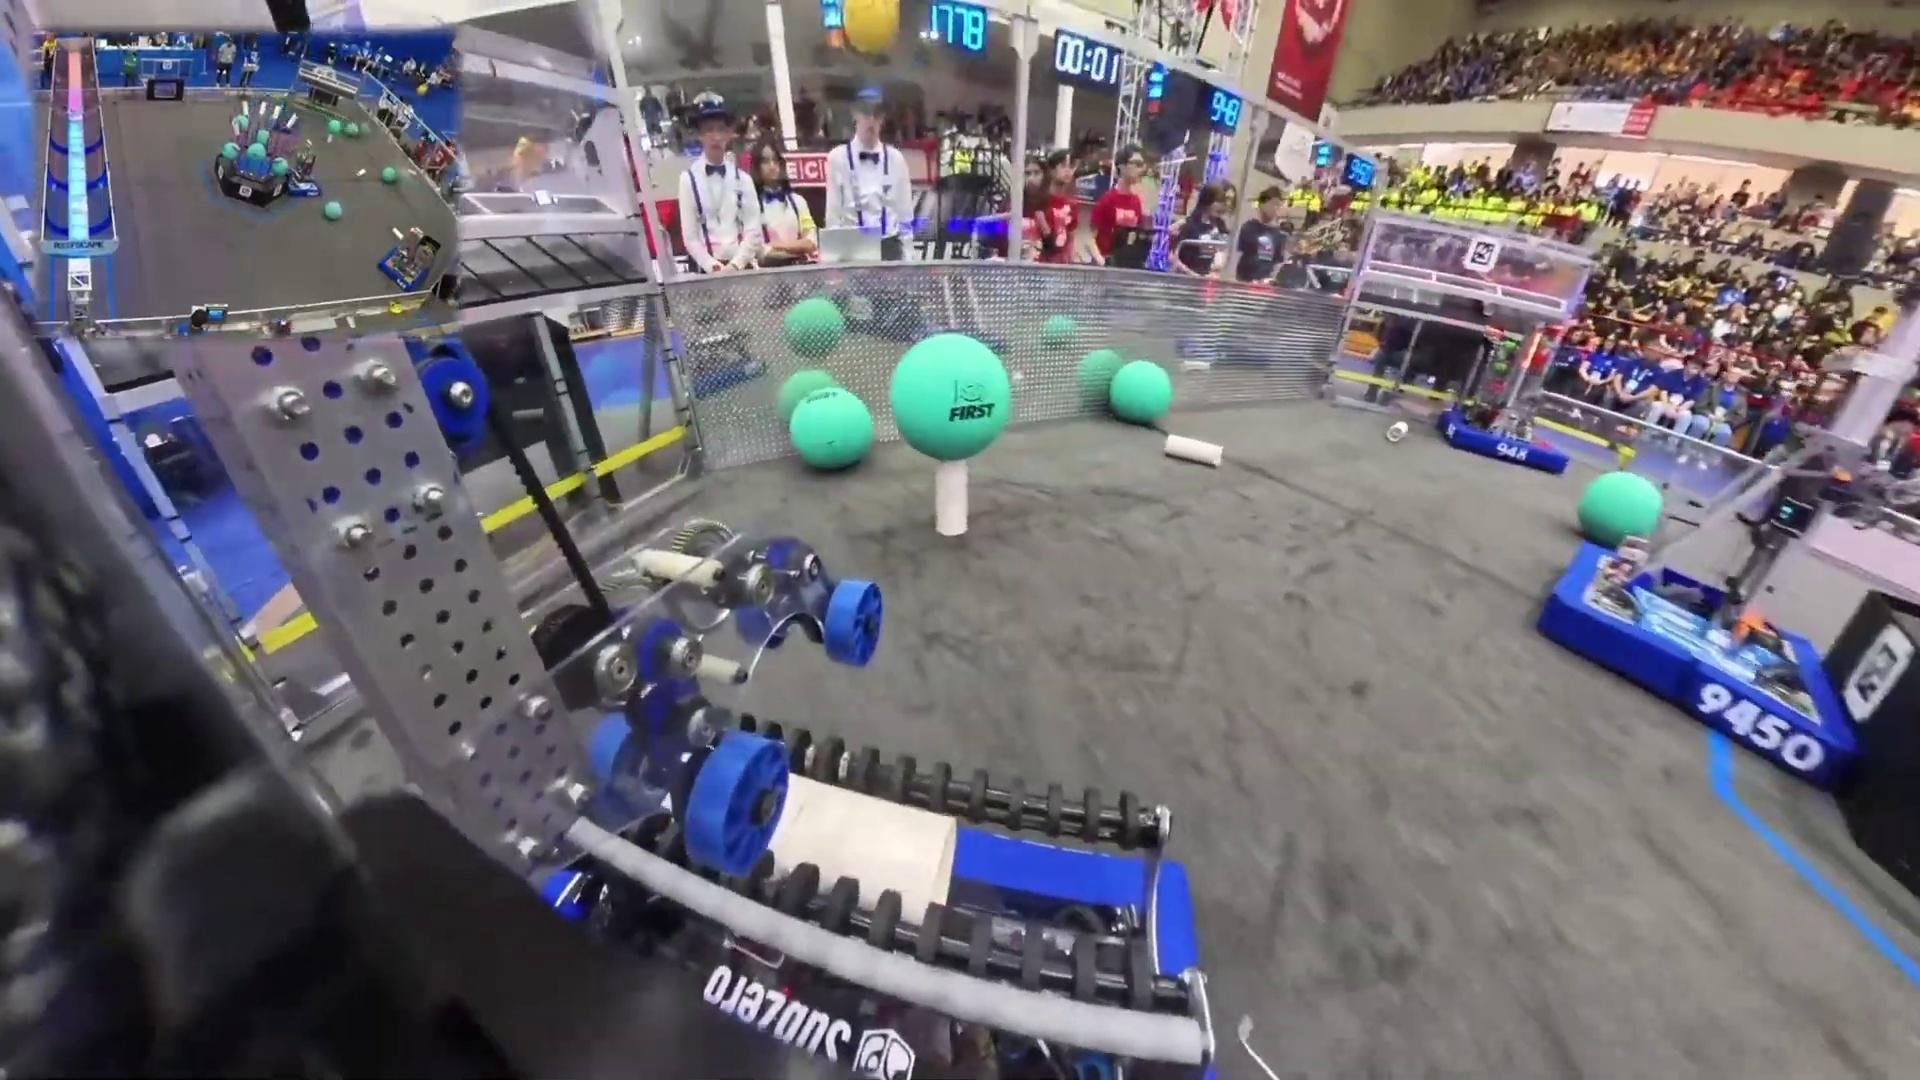robot: (1535, 396, 1858, 798), (1439, 322, 1568, 475), (375, 227, 439, 294), (286, 154, 324, 199)
